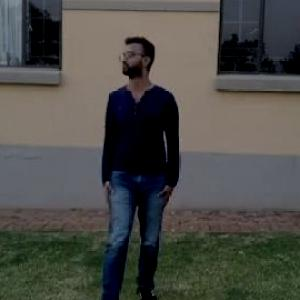follow: (94, 27, 184, 299)
